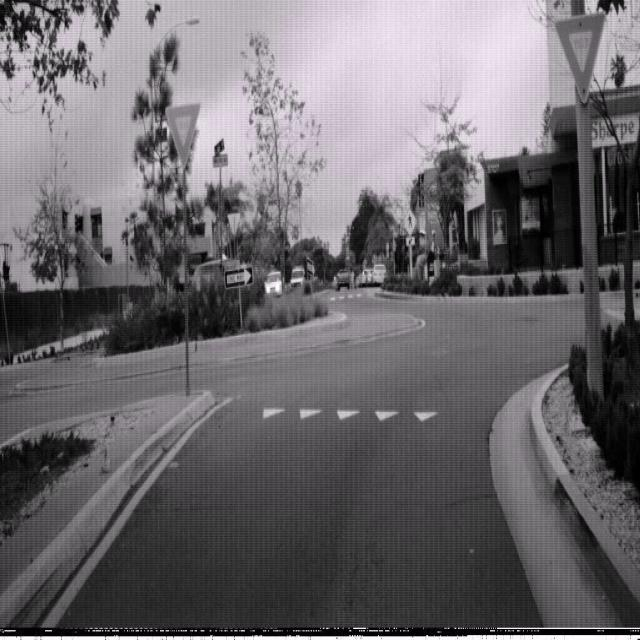pedestrianCrossing: (402, 206, 417, 235)
yield: (554, 10, 605, 104), (163, 101, 200, 168)
